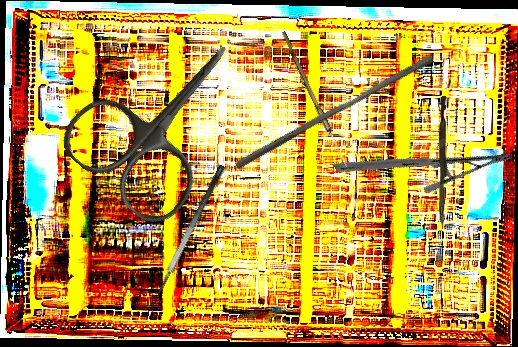Iris Scissors: (51, 2, 280, 234)
Needle Holder: (332, 80, 514, 244)
Pusher: (234, 47, 435, 178), (437, 96, 449, 229)
Spatula Surgical: (142, 163, 239, 319)
Surgical Spoon: (278, 31, 351, 168)
